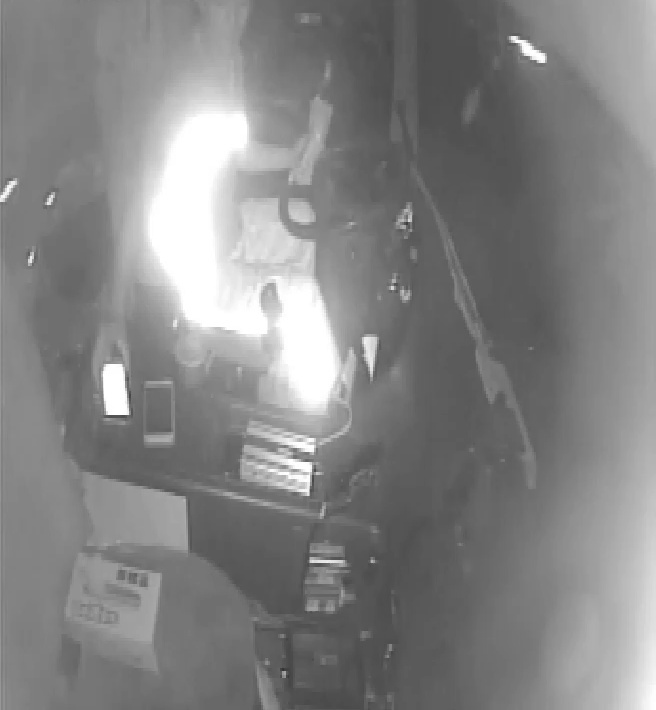cellphone: (92, 354, 130, 424)
